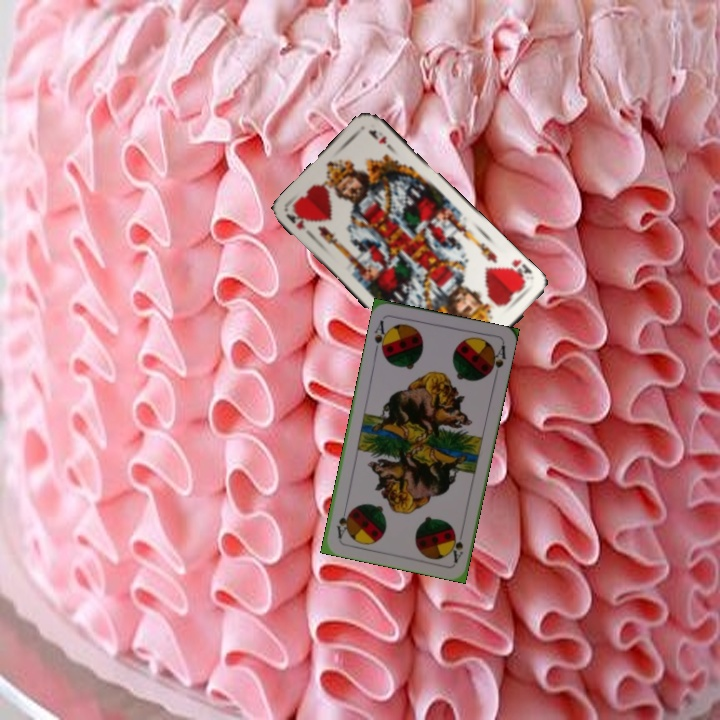HK: (282, 205, 317, 241), (503, 255, 535, 286)
SA: (370, 316, 391, 357), (447, 525, 466, 565)
